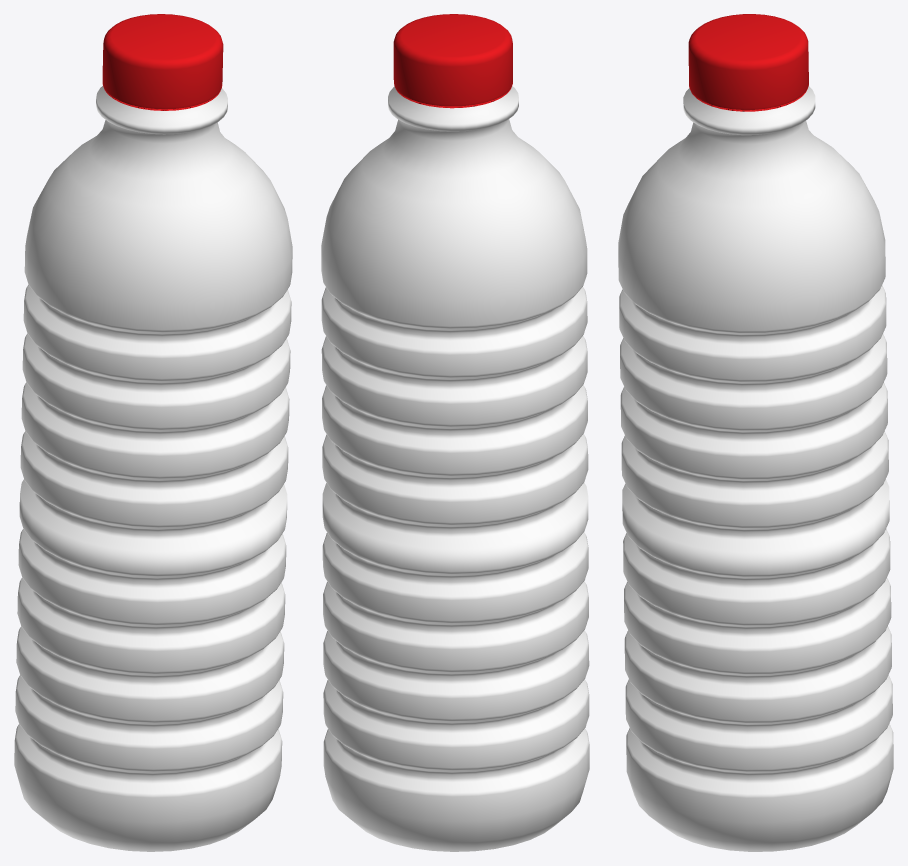
Rendered from bottle-crimson.glb.
3 renders of one model, left to right at view 1: azimuth 30°, elevation 25°; view 2: azimuth 150°, elevation 25°; view 3: azimuth 270°, elevation 25°, orthographic.
Parts seen in each view (by area): view 1: Object_2, Object_3; view 2: Object_2, Object_3; view 3: Object_2, Object_3.
Part boxes in pixels (left/top/right/bottom): Object_2: left=14, top=86, right=292, bottom=851; Object_3: left=102, top=14, right=223, bottom=110; Object_2: left=321, top=86, right=589, bottom=851; Object_3: left=393, top=14, right=512, bottom=108; Object_2: left=618, top=86, right=893, bottom=851; Object_3: left=688, top=14, right=808, bottom=111.
Bounding box in the file's own units: 9.24 × 28.97 × 9.26.
